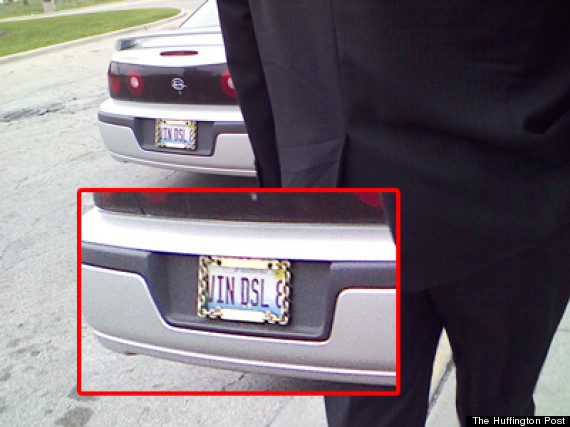license plate: (196, 254, 293, 326)
